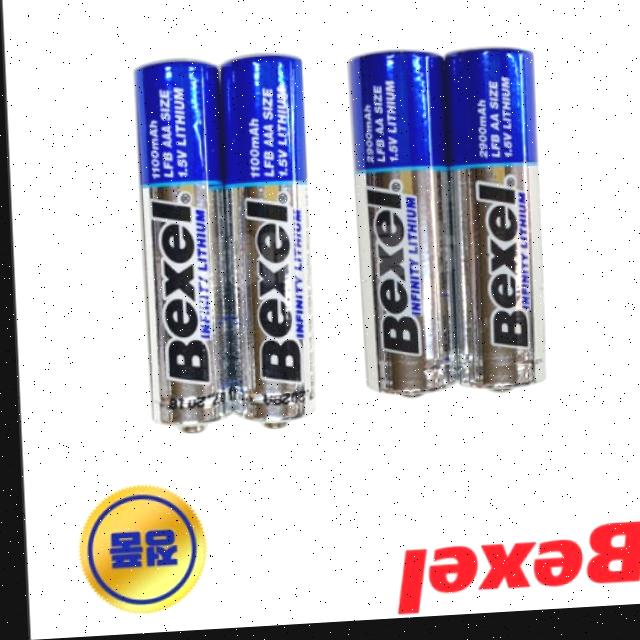battery: (345, 43, 457, 413), (132, 58, 239, 438), (222, 50, 318, 438), (442, 43, 546, 400)
